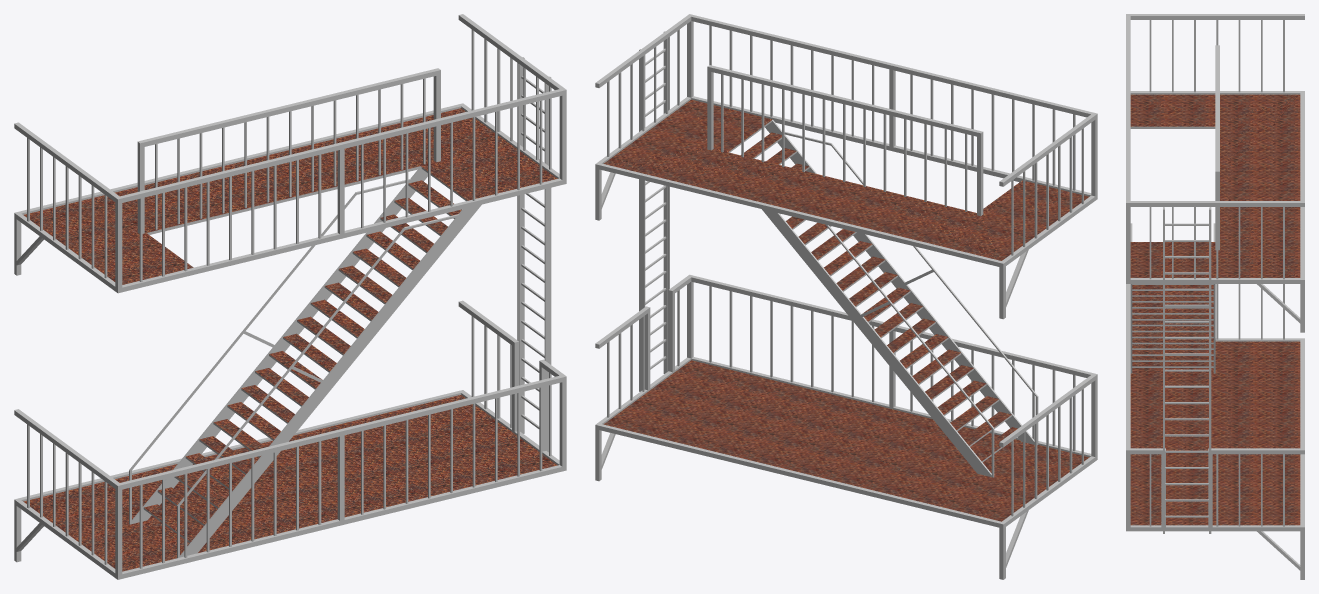
3 renders of one model, left to right at view 1: azimuth 30°, elevation 25°; view 2: azimuth 150°, elevation 25°; view 3: azimuth 270°, elevation 25°, orthographic. The views are drawn at different scales.
Parts seen in each view (by area): view 1: Base, Ladder; view 2: Base, Ladder; view 3: Base, Ladder.
Boxes of the visible parts, x1,y1,x2,y2 form: Base: [14, 14, 566, 579]; Ladder: [519, 57, 549, 433]; Base: [595, 14, 1097, 579]; Ladder: [640, 31, 667, 373]; Base: [1126, 14, 1304, 579]; Ladder: [1164, 207, 1210, 533].
Bounding box in the file's own units: 507 × 465 × 200.
